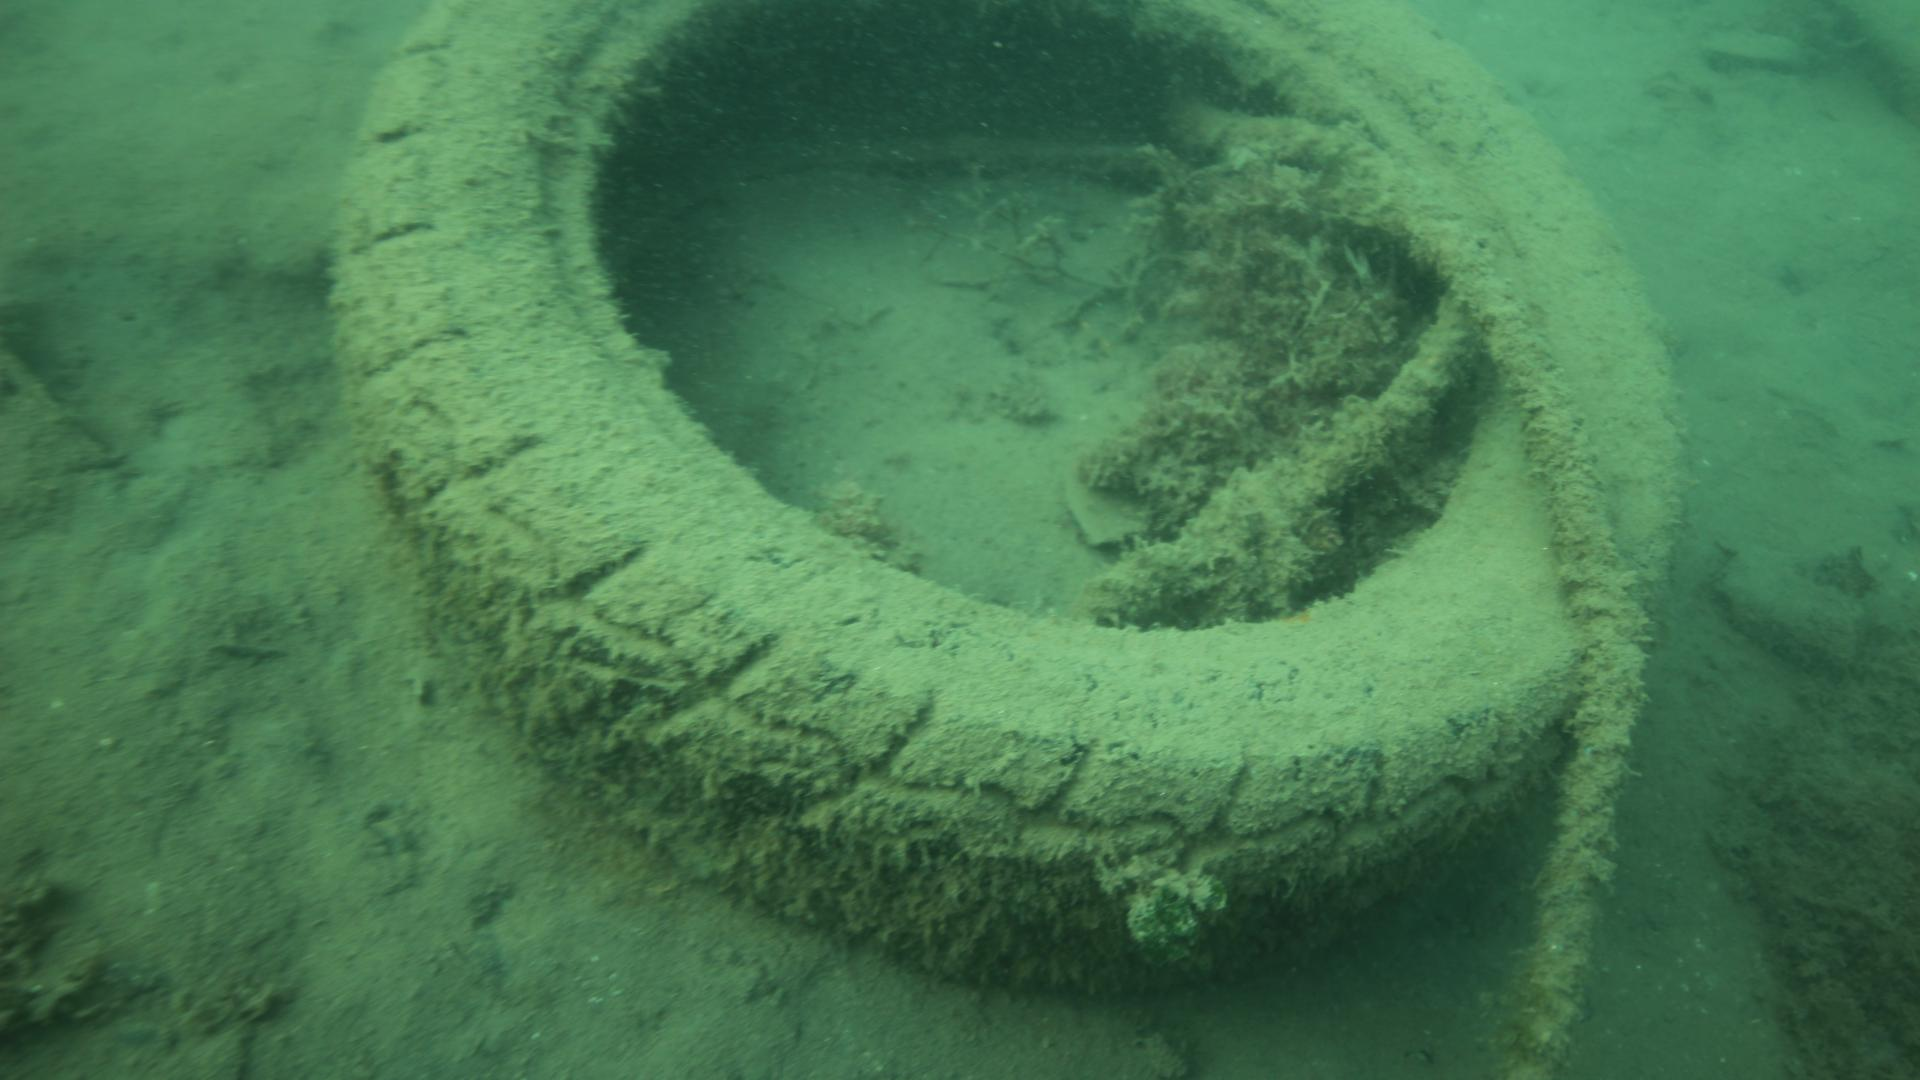bundle of ropes: (1160, 91, 1648, 1080)
tire: (324, 12, 1680, 986)
